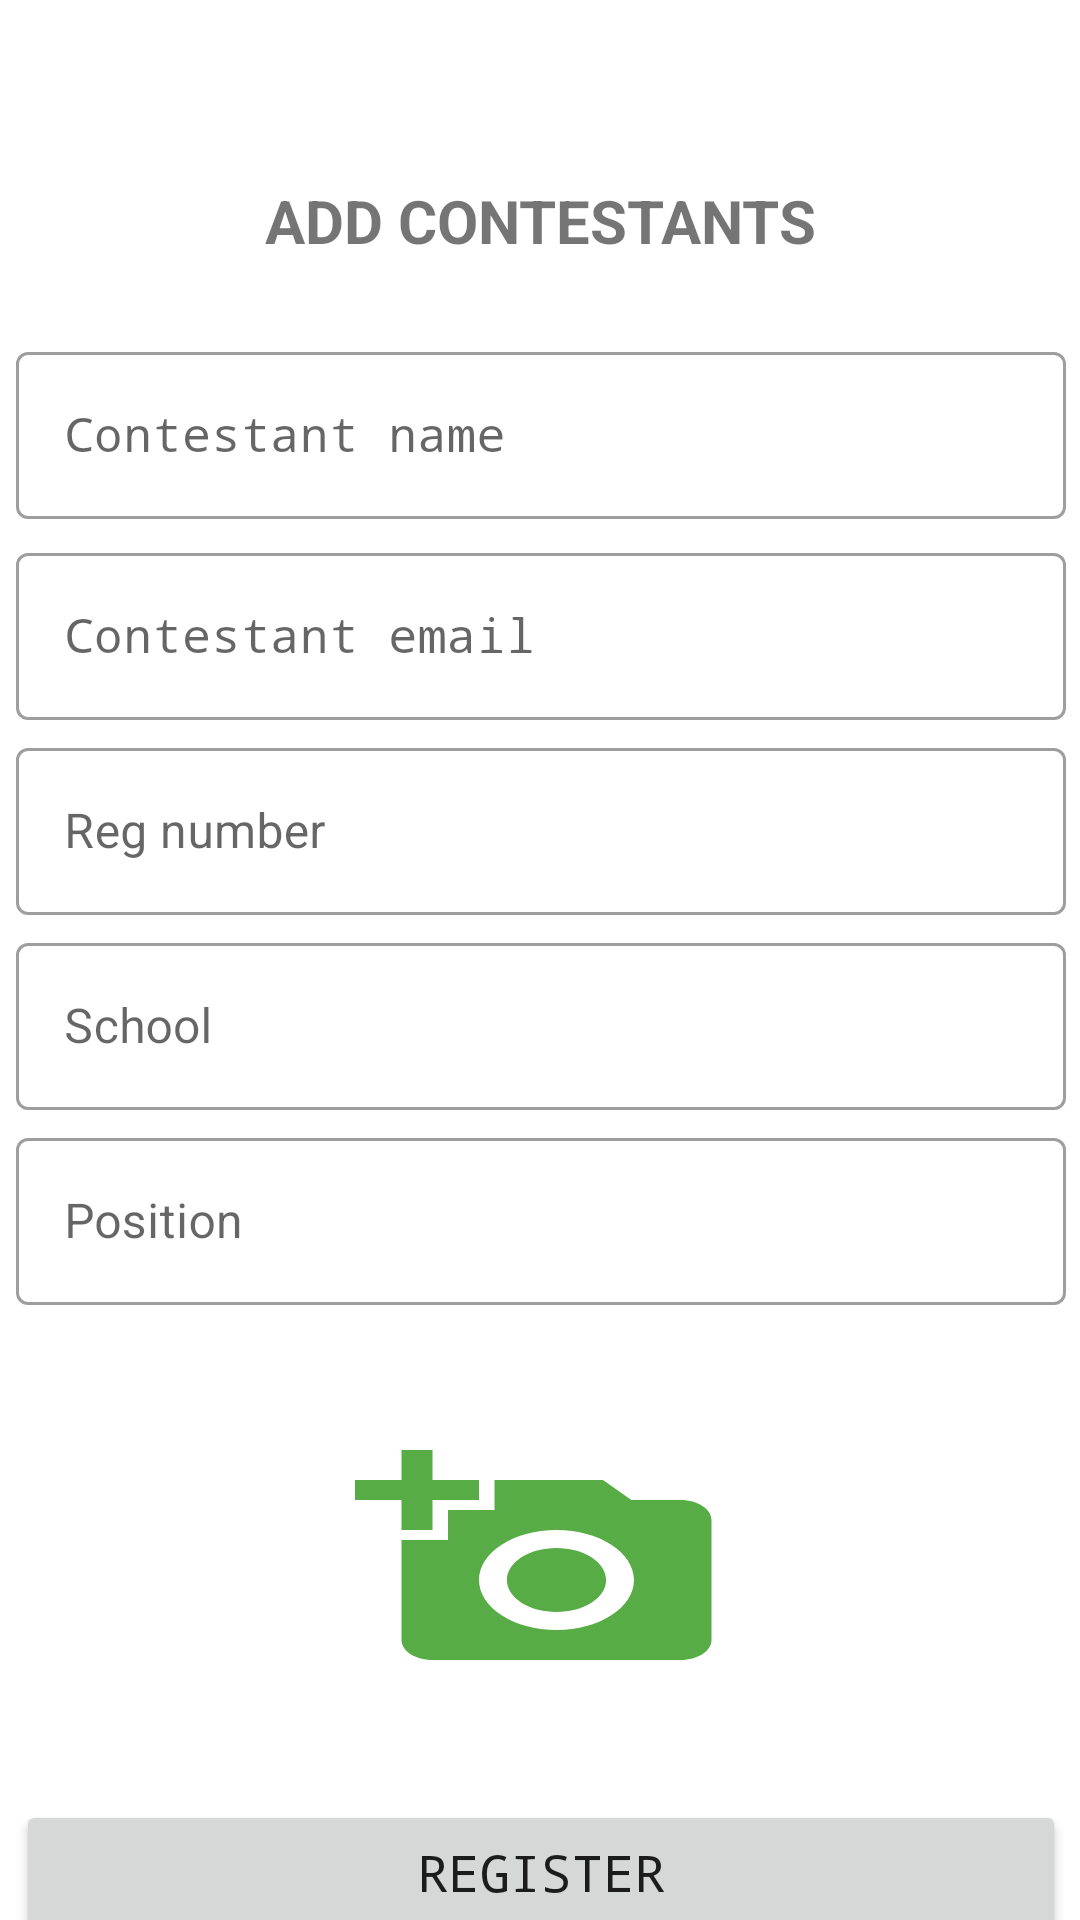

Icon click points for this 1080px x 1920px phone screenshot, format point (x, y):
add photo: point (533, 1555)
